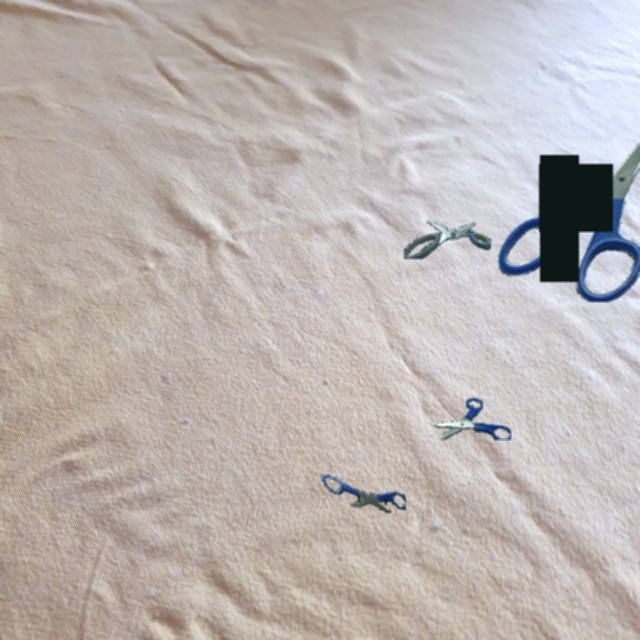scissors: (497, 135, 640, 302), (404, 220, 491, 259), (321, 474, 406, 513), (434, 397, 511, 440)
